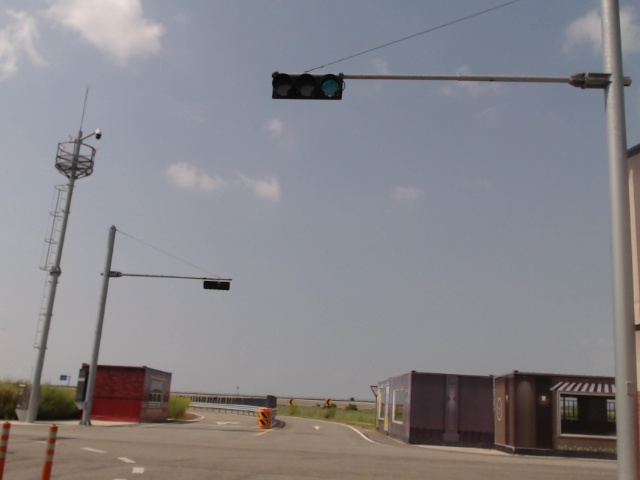green_3: (271, 72, 343, 100)
